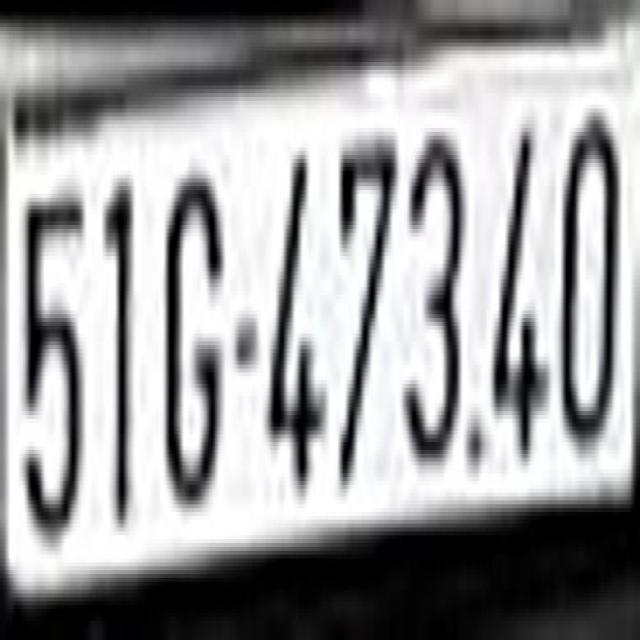0: (563, 116, 617, 454)
1: (103, 171, 131, 543)
3: (404, 124, 462, 462)
4: (270, 120, 324, 493), (492, 128, 550, 469)
5: (24, 178, 78, 536)
7: (334, 128, 394, 481)
G: (160, 163, 223, 512)
